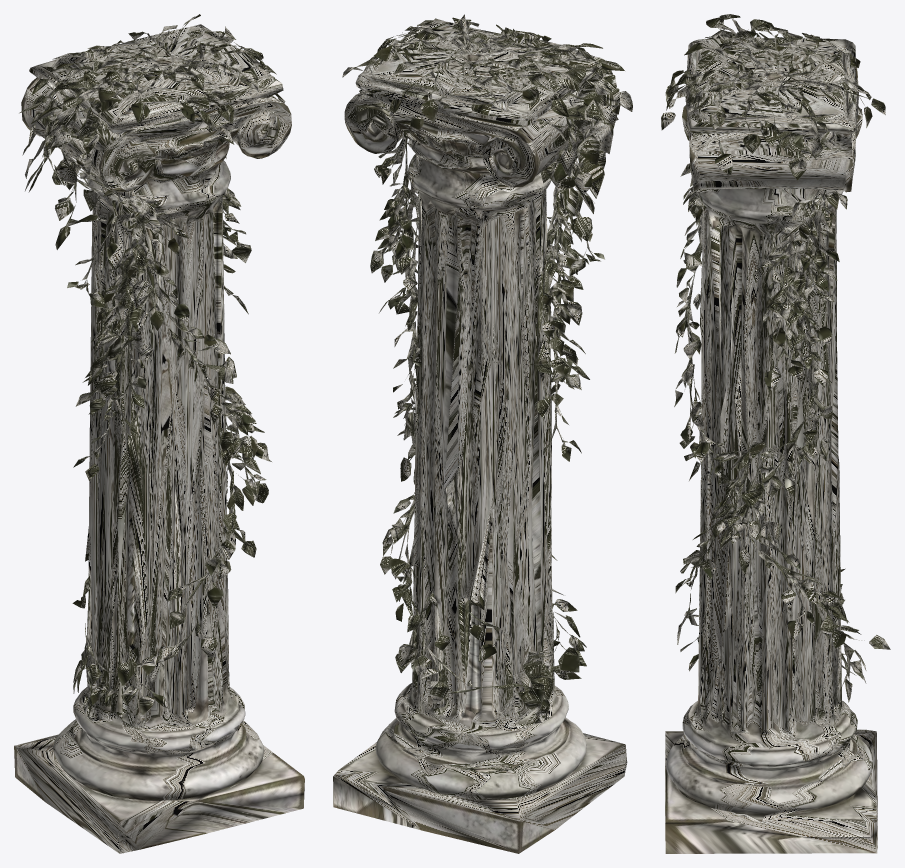
Rendered from column.glb.
3 renders of one model, left to right at view 1: azimuth 30°, elevation 25°; view 2: azimuth 150°, elevation 25°; view 3: azimuth 270°, elevation 25°, orthographic.
Parts seen in each view (by area): view 1: output_unwrapped; view 2: output_unwrapped; view 3: output_unwrapped.
Boxes of the visible parts, x1,y1,x2,y2 form: output_unwrapped: [14, 14, 304, 853]; output_unwrapped: [333, 14, 632, 853]; output_unwrapped: [661, 14, 890, 853].
Size of the model in its own units: 0.629 by 1.9 by 0.5195.
1 material, 1 textured.
